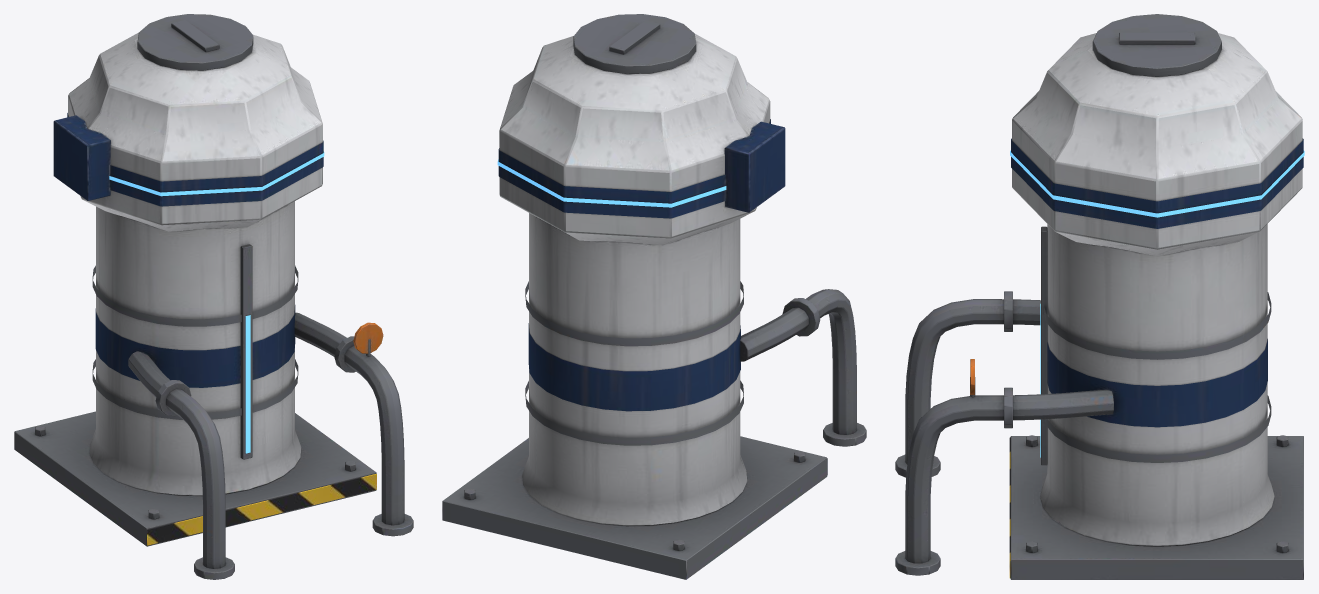
Rendered from 整備庫_39_圓頂儲槽.glb.
3 renders of one model, left to right at view 1: azimuth 30°, elevation 25°; view 2: azimuth 150°, elevation 25°; view 3: azimuth 270°, elevation 25°, orthographic. The views are drawn at different scales.
Visible parts, largest first — view 1: Tank_dome_Mesh; view 2: Tank_dome_Mesh; view 3: Tank_dome_Mesh.
Part boxes in pixels (x1,y1,x2,y2): Tank_dome_Mesh: [14, 14, 413, 579]; Tank_dome_Mesh: [442, 14, 866, 579]; Tank_dome_Mesh: [895, 14, 1304, 579].
Size of the model in its own units: 4.04 by 7 by 5.39.
2 materials, 1 textured.
